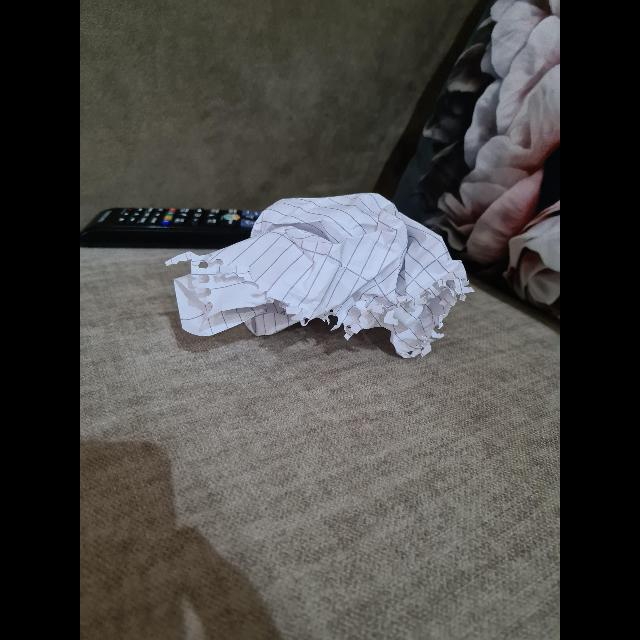trash: (173, 197, 472, 345)
